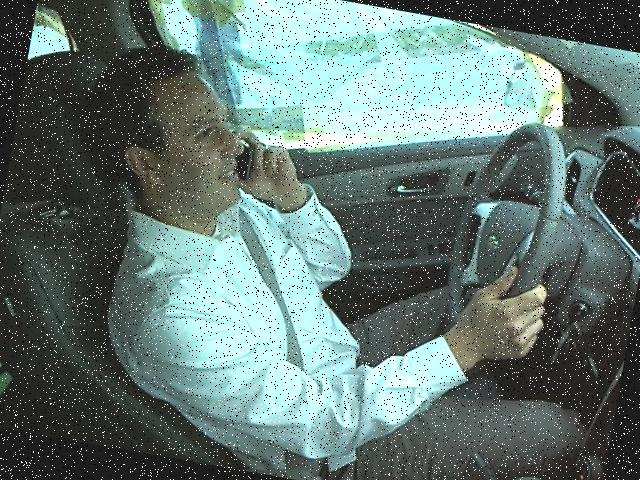c2 - Talking on the phone: (29, 24, 586, 466)
